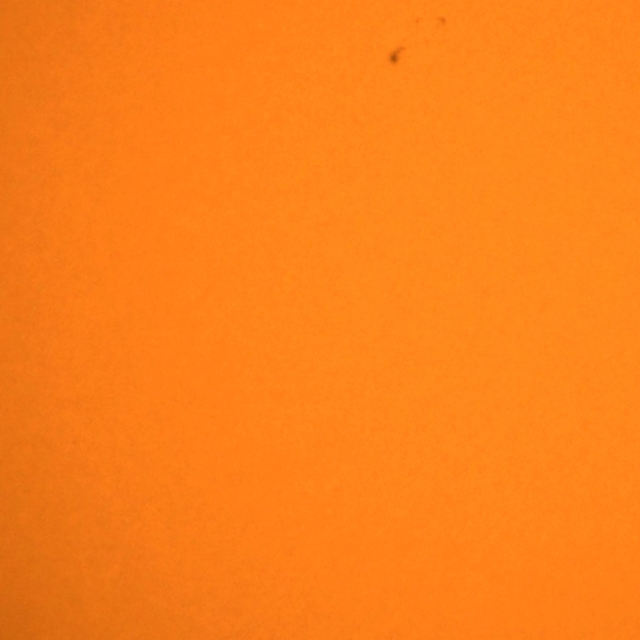sunspot: (412, 14, 448, 32), (386, 44, 407, 68), (434, 15, 448, 28), (414, 17, 421, 27)
